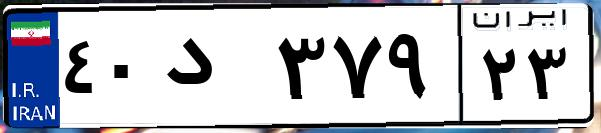0: (110, 28, 158, 98)
2: (475, 38, 525, 113)
3: (270, 28, 330, 110), (525, 38, 570, 115)
4: (57, 26, 110, 100)
7: (330, 28, 385, 110)
9: (385, 28, 445, 110)
د: (158, 20, 270, 120)
